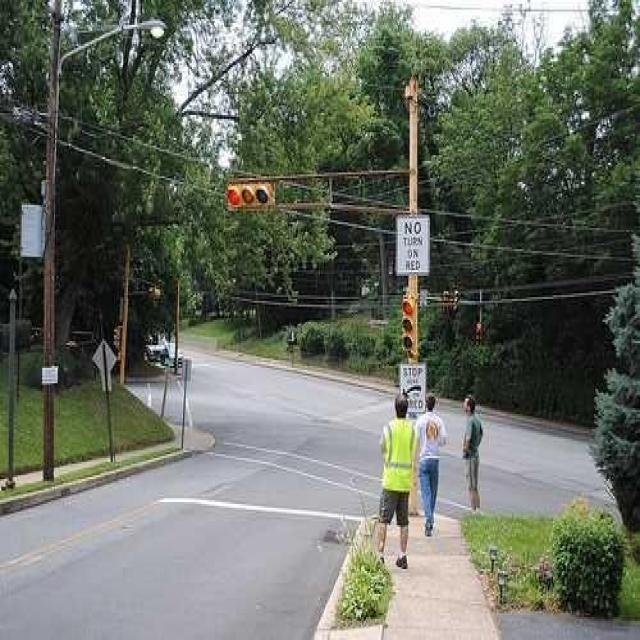red_light: (401, 292, 416, 354), (400, 293, 414, 318)
